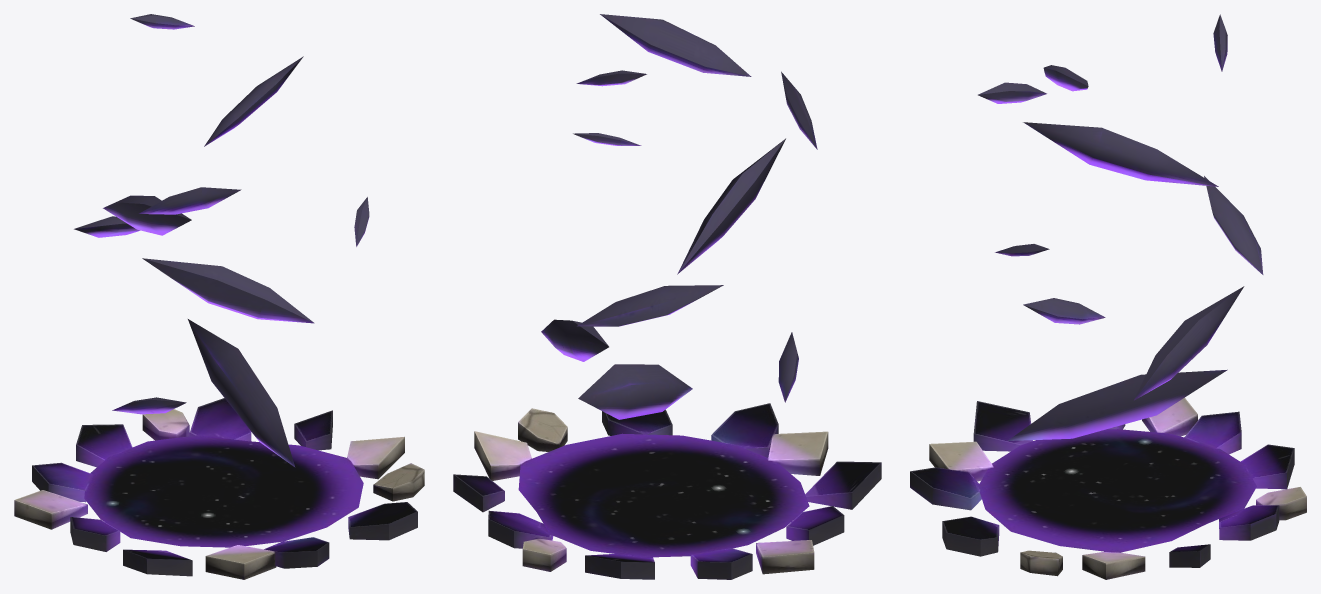
Rendered from abyss_shards.glb.
The picture shows the model from 3 angles, left to right: view 1: azimuth 30°, elevation 25°; view 2: azimuth 150°, elevation 25°; view 3: azimuth 270°, elevation 25°; orthographic projection. The views are drawn at different scales.
Visible parts, largest first — view 1: abyss_shards; view 2: abyss_shards; view 3: abyss_shards.
Part boxes in pixels (left/top/right/bottom): abyss_shards: left=14, top=14, right=424, bottom=579; abyss_shards: left=453, top=14, right=881, bottom=579; abyss_shards: left=910, top=14, right=1306, bottom=579.
Bounding box in the file's own units: 1.39 × 1.7 × 1.31.
1 material, 1 textured.
